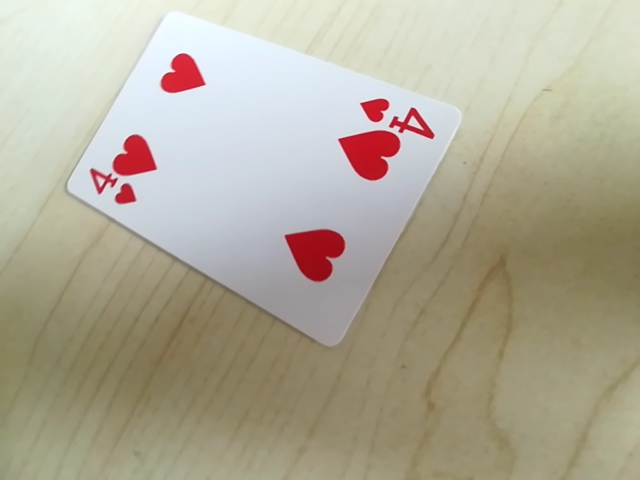hx 4: (354, 96, 443, 137), (83, 169, 150, 213)
